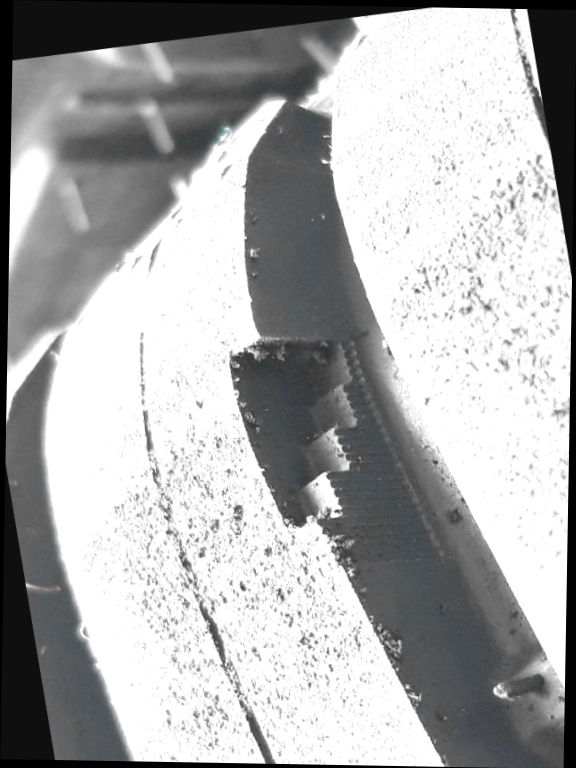temoin:95: (200, 299, 447, 595)
